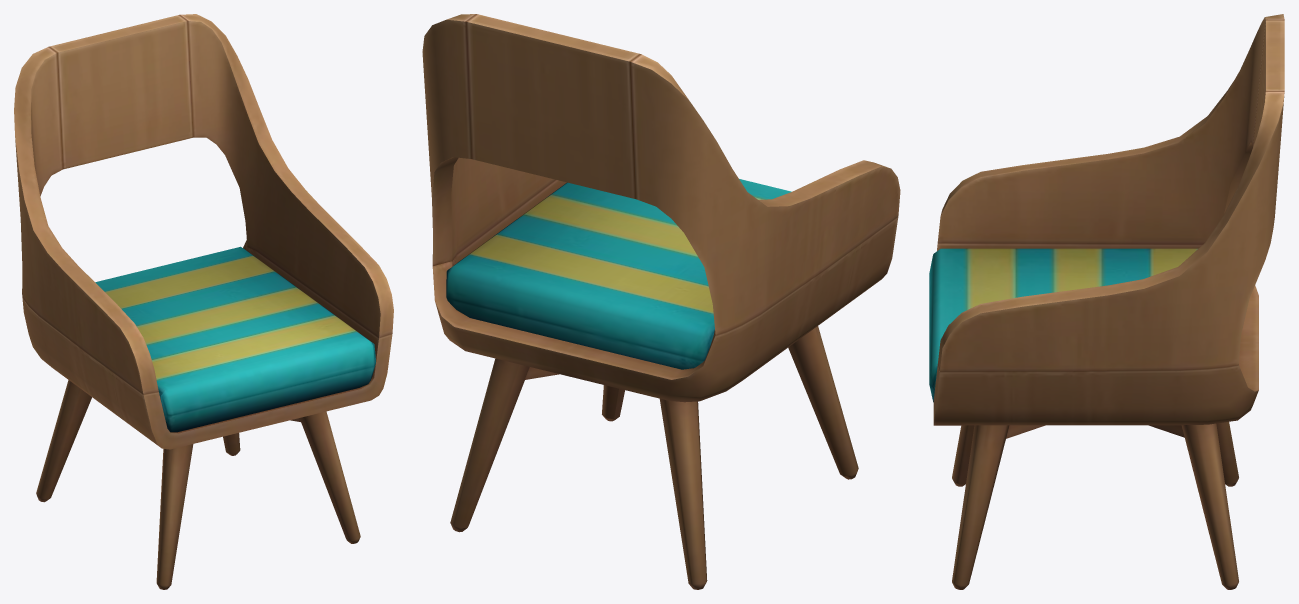
The model's file is tiny_lovely_dining_chair.glb.
3 views of the same model, side by side, from view 1: azimuth 30°, elevation 25°; view 2: azimuth 150°, elevation 25°; view 3: azimuth 270°, elevation 25° (orthographic). The views are drawn at different scales.
Parts seen in each view (by area): view 1: Object_86; view 2: Object_86; view 3: Object_86.
Part boxes in pixels (<box>): Object_86: <box>14,14,393,589</box>; Object_86: <box>422,14,900,589</box>; Object_86: <box>929,14,1284,589</box>.
Size of the model in its own units: 0.9088 by 1.44 by 0.9637.
1 material, 1 textured.
